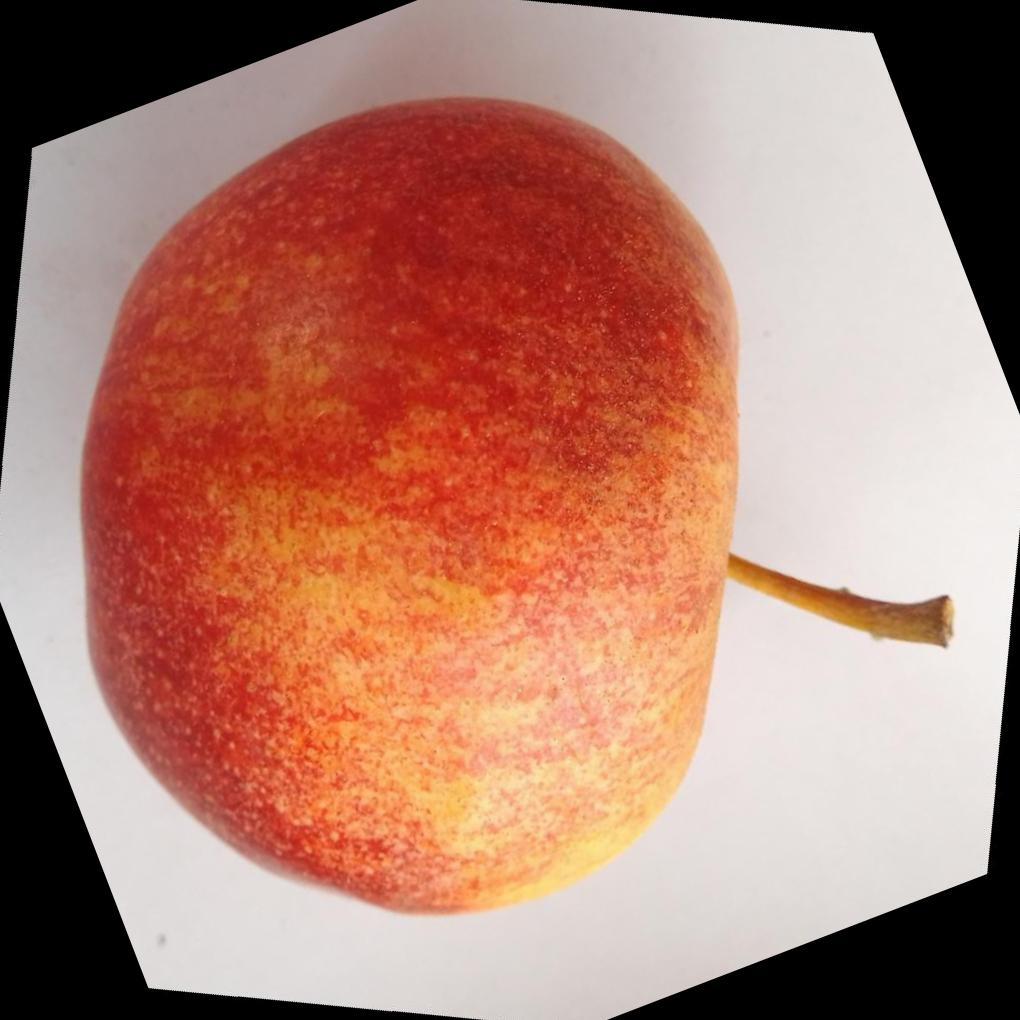FreshGuava: (72, 94, 738, 918)
